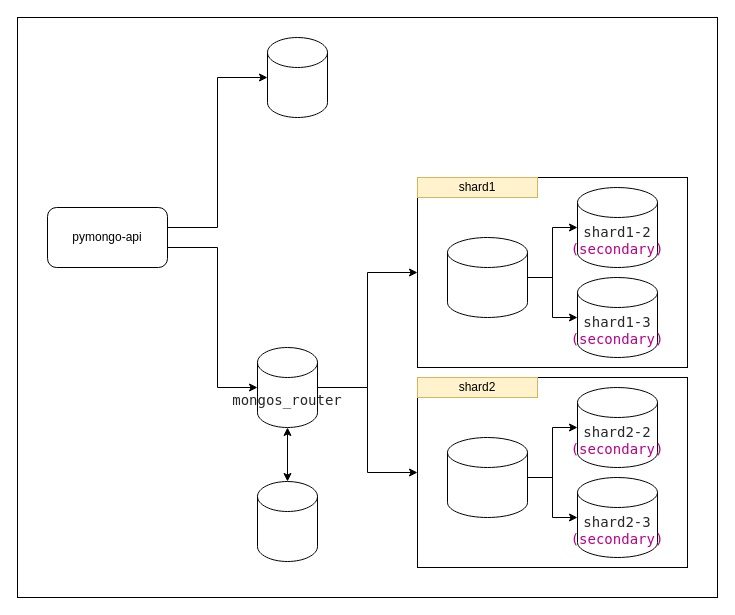
The diagram is 735 pixels wide and 615 high, and some of its shapes have lost their labels. Here are the shapes that lost their labels. From the top down, the centre of each, then its label:
point 297,77: redis
point 487,277: shard1-1 (primary)
point 487,477: shard2-1 (primary)
point 287,521: configSrv
